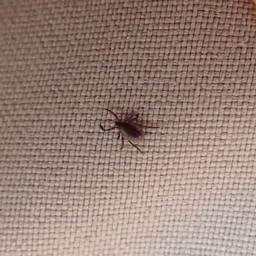Ixodes scapularis: (100, 109, 160, 154)
